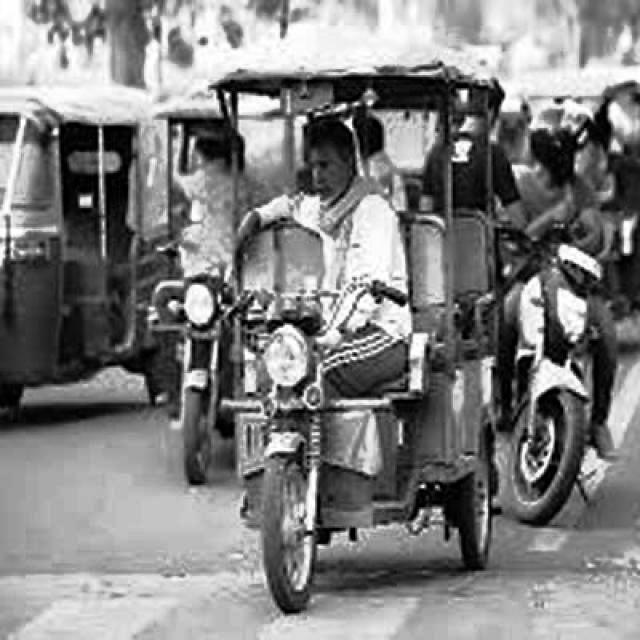Toto: (200, 49, 521, 612)
